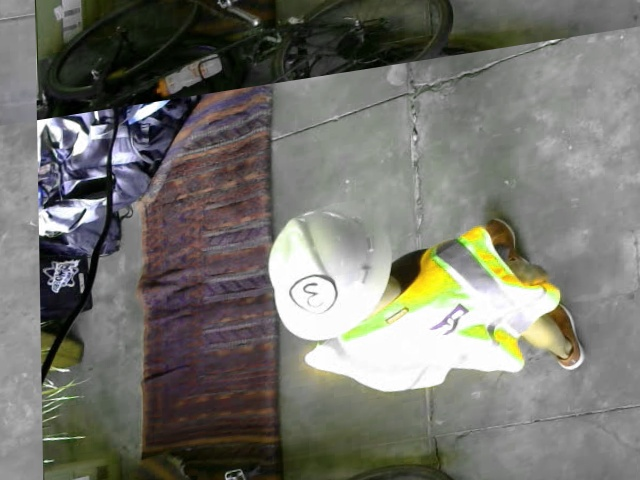three: (288, 271, 335, 319)
